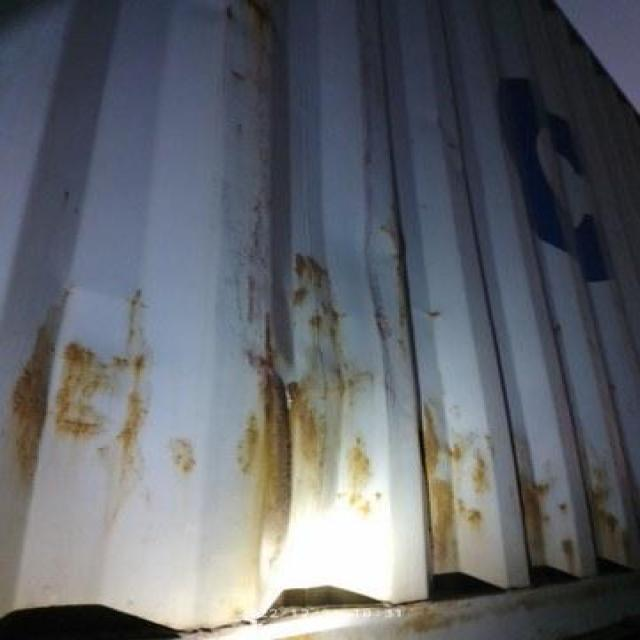rust: (21, 329, 145, 465), (240, 347, 338, 519)
